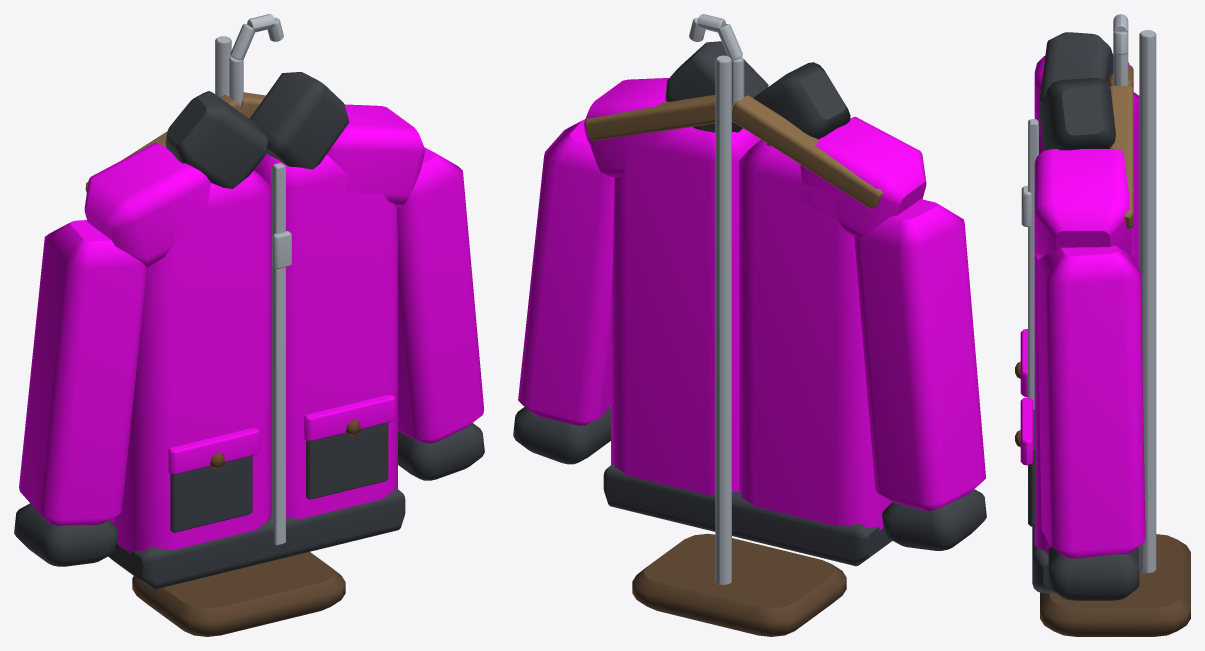
Rendered from objet_veste.glb.
The picture shows the model from 3 angles, left to right: view 1: azimuth 30°, elevation 25°; view 2: azimuth 150°, elevation 25°; view 3: azimuth 270°, elevation 25°; orthographic projection. The views are drawn at different scales.
Visible parts, largest first — view 1: veste_teinte.002, veste_teinte_sombre.002, veste_bois_sombre.002, veste_gris_clair.002, veste_bois.002; view 2: veste_teinte.002, veste_teinte_sombre.002, veste_bois_sombre.002, veste_gris_clair.002, veste_bois.002; view 3: veste_teinte.002, veste_teinte_sombre.002, veste_gris_clair.002, veste_bois_sombre.002, veste_bois.002.
Part boxes in pixels (box(x1,y1,x2,y2)): veste_teinte.002: box(19, 104, 484, 553); veste_teinte_sombre.002: box(14, 72, 484, 589); veste_bois_sombre.002: box(132, 552, 345, 636); veste_gris_clair.002: box(215, 14, 291, 545); veste_bois.002: box(85, 92, 265, 192); veste_teinte.002: box(518, 78, 985, 530); veste_teinte_sombre.002: box(513, 41, 986, 566); veste_bois_sombre.002: box(632, 533, 846, 636); veste_gris_clair.002: box(689, 14, 744, 585); veste_bois.002: box(585, 95, 883, 208); veste_teinte.002: box(1020, 54, 1145, 558); veste_teinte_sombre.002: box(1028, 32, 1139, 600); veste_gris_clair.002: box(1021, 14, 1156, 573); veste_bois_sombre.002: box(1040, 534, 1190, 636); veste_bois.002: box(1108, 65, 1133, 228).
Bounding box in the file's own units: 0.2435 × 0.3035 × 0.0816.
